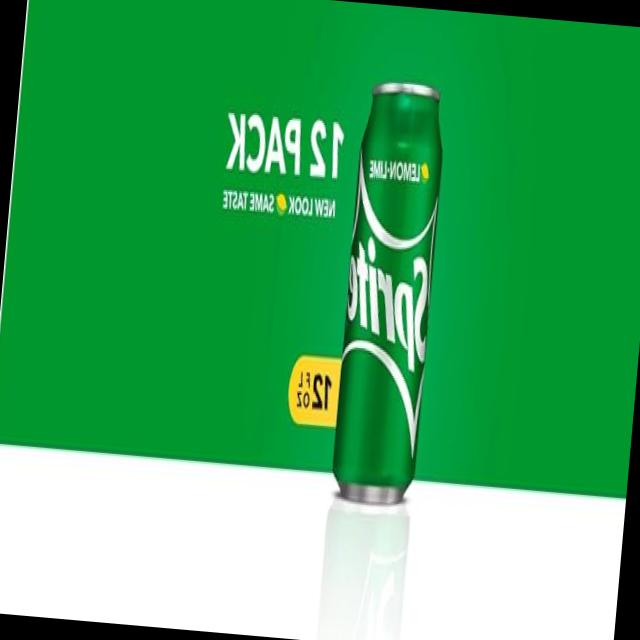sprite: (326, 65, 449, 512)
